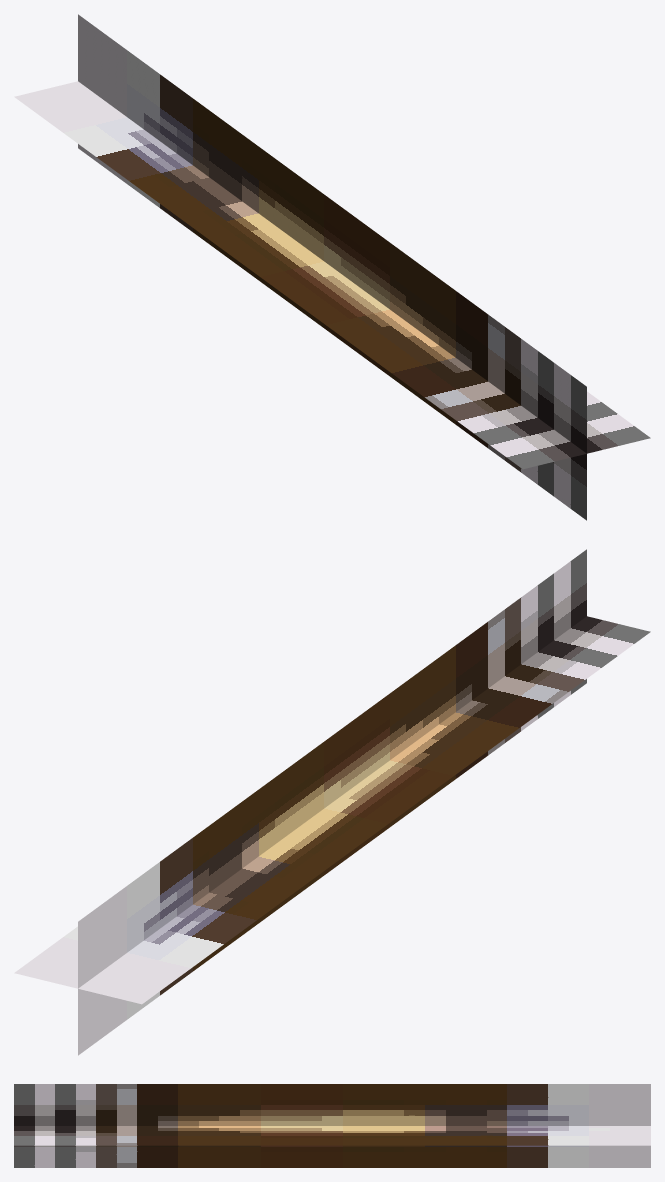
The model's file is attachments_a_handarrow.glb.
The picture shows the model from 3 angles, top to bottom: view 1: azimuth 30°, elevation 25°; view 2: azimuth 150°, elevation 25°; view 3: azimuth 270°, elevation 25°; orthographic projection. The views are drawn at different scales.
Visible parts, largest first — view 1: MeshRoot; view 2: MeshRoot; view 3: MeshRoot.
Part boxes in pixels (box(x1,y1,x2,y2)): MeshRoot: box(14, 14, 650, 520); MeshRoot: box(14, 549, 650, 1055); MeshRoot: box(14, 1084, 650, 1167).
Size of the model in its own units: 0.126 by 0.126 by 0.8672.
1 material, 1 textured.
